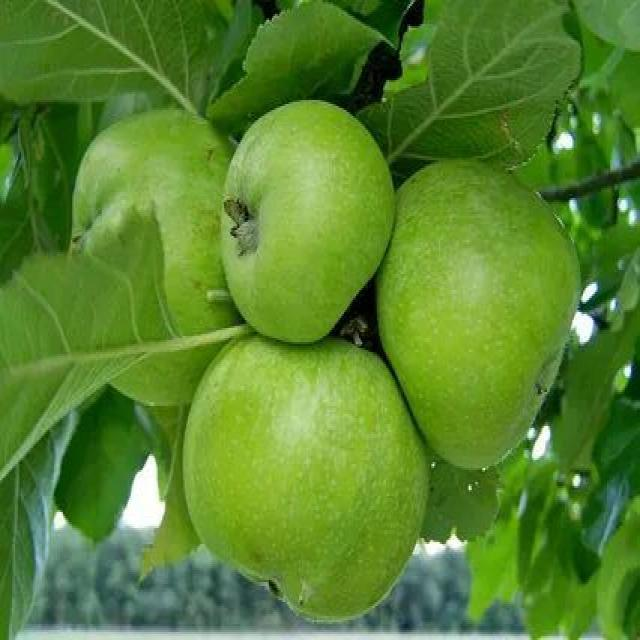Fresh Apple: (162, 325, 432, 618), (390, 150, 583, 482), (216, 102, 396, 360)
